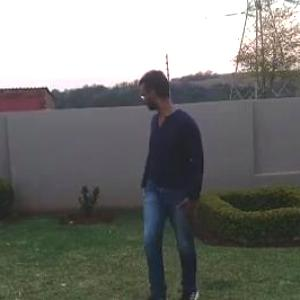follow: (134, 66, 205, 278)
